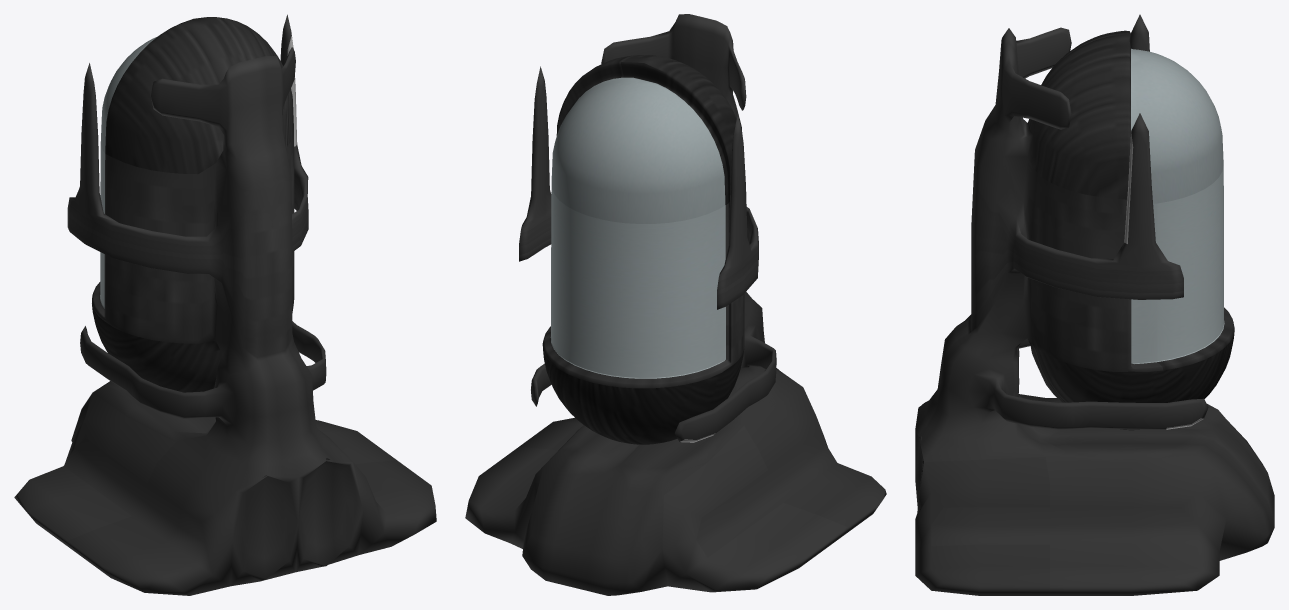
The picture shows the model from 3 angles, left to right: view 1: azimuth 30°, elevation 25°; view 2: azimuth 150°, elevation 25°; view 3: azimuth 270°, elevation 25°; orthographic projection. The views are drawn at different scales.
Visible parts, largest first — view 1: pCylinder11; view 2: pCylinder11; view 3: pCylinder11.
Boxes of the visible parts, x1,y1,x2,y2 form: pCylinder11: (14, 14, 436, 595); pCylinder11: (465, 14, 886, 595); pCylinder11: (915, 14, 1274, 595).
Bounding box in the file's own units: 23.45 × 33.28 × 21.68.
3 materials, 2 textured.
